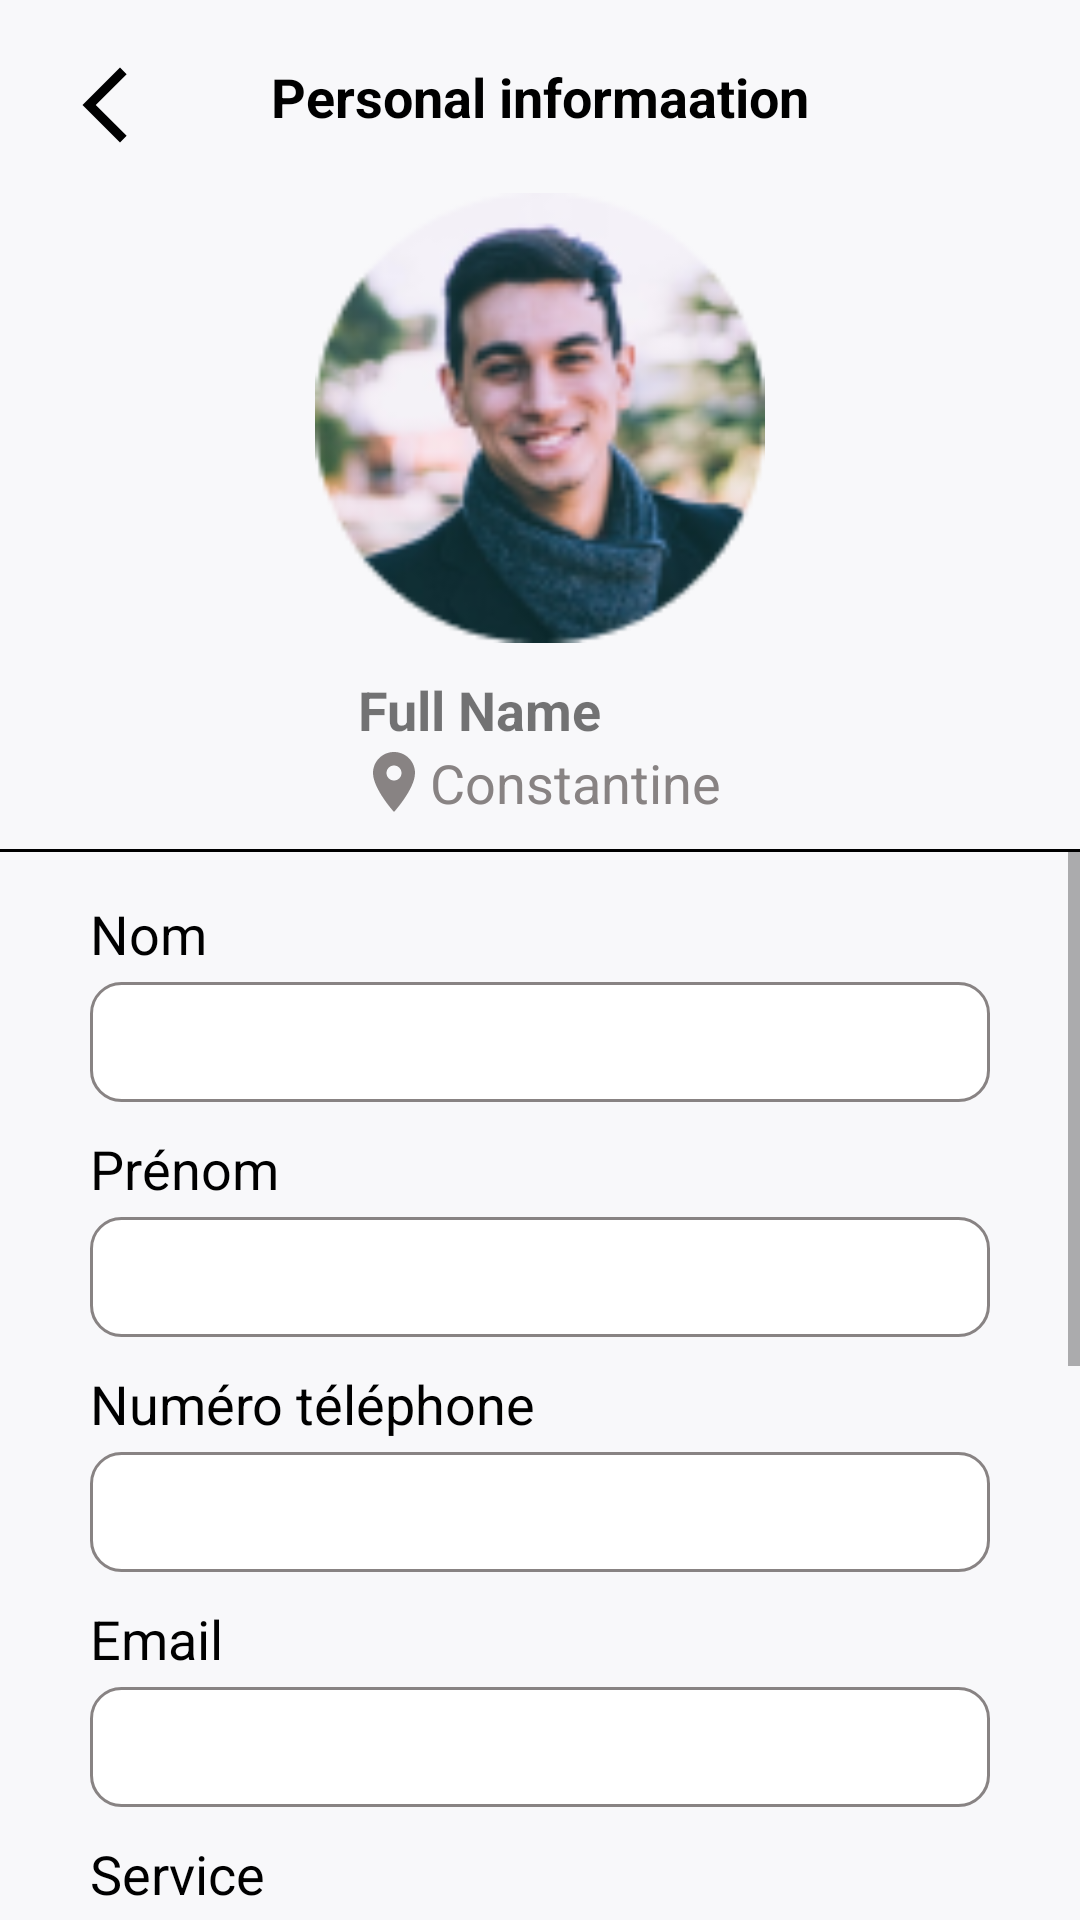

Icons on this 1080×1920 Android screen, each with its box as box=[x1, y1, x2, y2]:
back: box=[82, 67, 127, 143]
